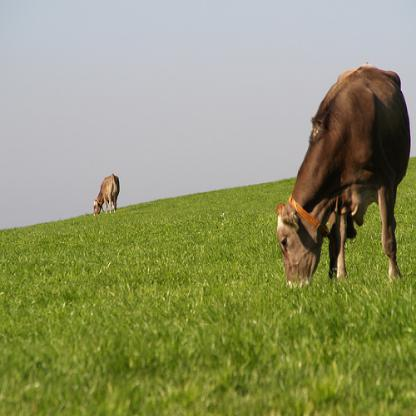cow: (273, 68, 410, 287), (91, 173, 119, 215)
